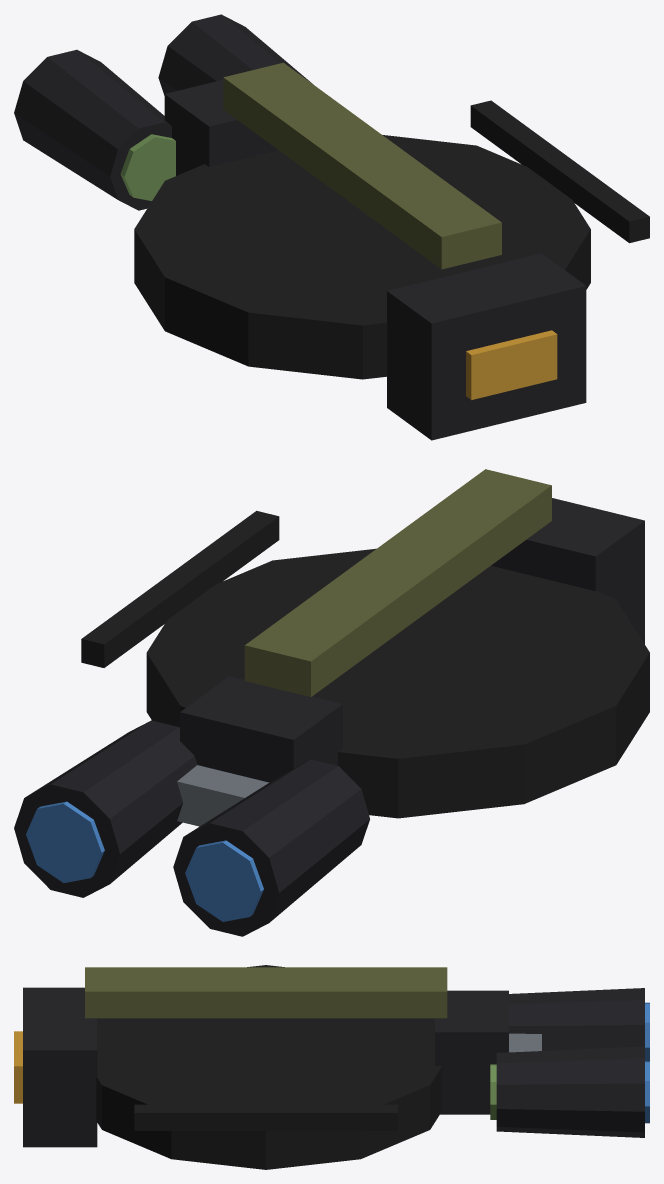
The model's file is night_vision.glb.
3 views of the same model, one above another, from view 1: azimuth 30°, elevation 25°; view 2: azimuth 150°, elevation 25°; view 3: azimuth 270°, elevation 25° (orthographic). The views are drawn at different scales.
Parts seen in each view (by area): view 1: night_vision; view 2: night_vision; view 3: night_vision.
Part boxes in pixels (x1=…): night_vision: x1=14, y1=14, x2=649, y2=440; night_vision: x1=14, y1=469, x2=649, y2=936; night_vision: x1=14, y1=965, x2=649, y2=1169.
Size of the model in its own units: 0.236 by 0.0915 by 0.386.
2 materials, 2 textured.
